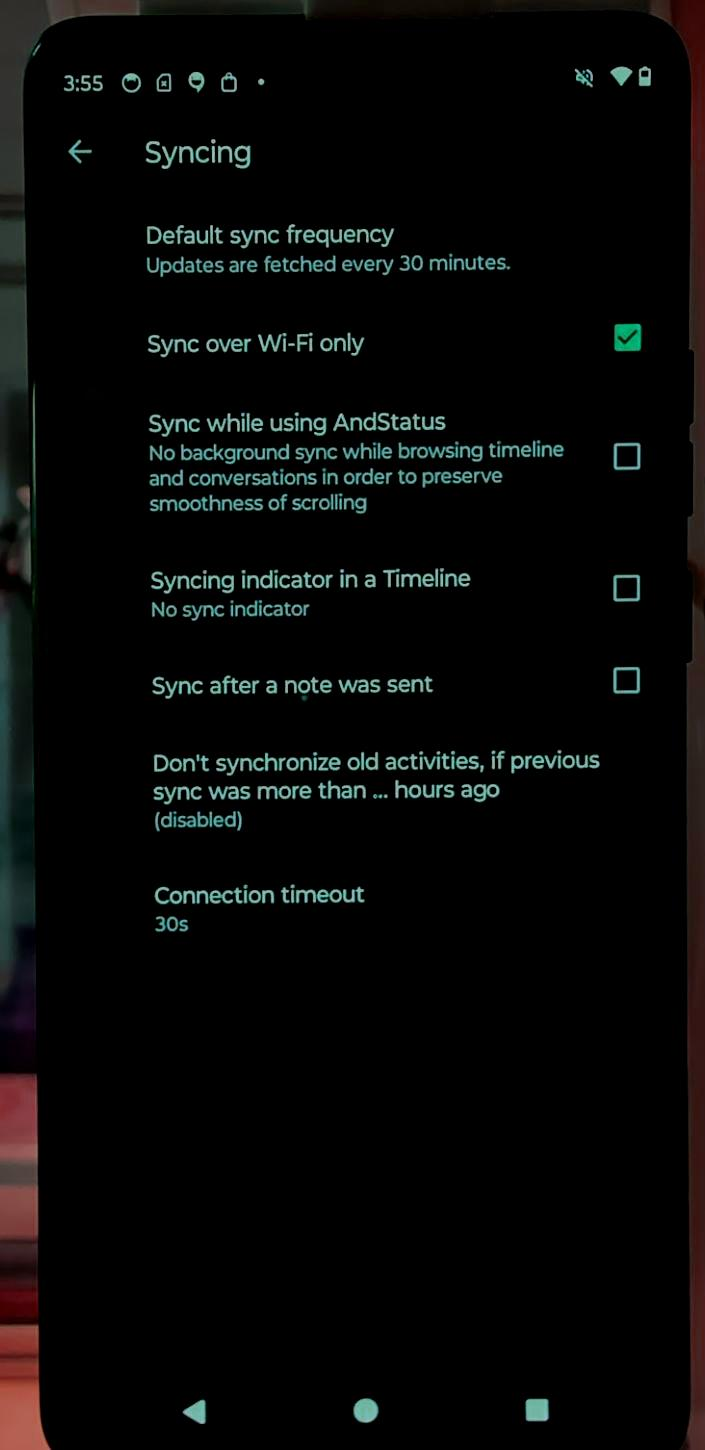Checkbox: (607, 660, 645, 698), (609, 570, 643, 607), (611, 321, 644, 357), (612, 439, 643, 473)
CommunBotton: (511, 1383, 558, 1434), (343, 1380, 386, 1433), (174, 1380, 212, 1438)
